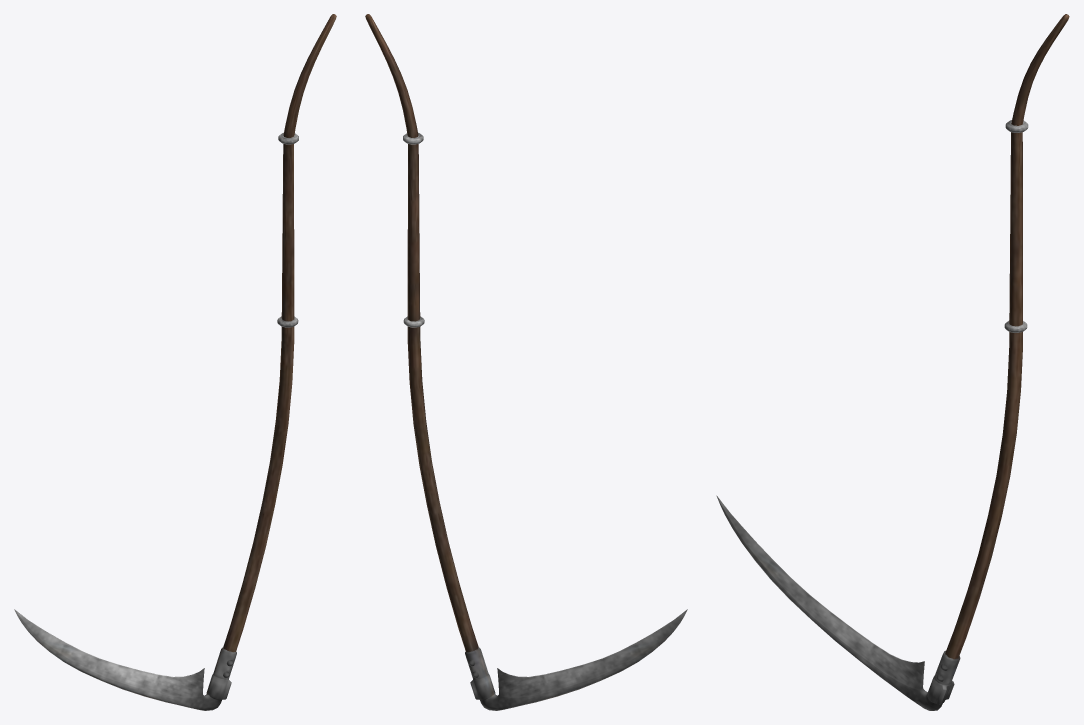
The model's file is weapon-wp_a_1050.glb.
3 renders of one model, left to right at view 1: azimuth 30°, elevation 25°; view 2: azimuth 150°, elevation 25°; view 3: azimuth 330°, elevation 25°, orthographic. The views are drawn at different scales.
Visible parts, largest first — view 1: wp_a_1050_mesh; view 2: wp_a_1050_mesh; view 3: wp_a_1050_mesh.
Boxes of the visible parts, box(x1,y1,x2,y2) form: wp_a_1050_mesh: box(14, 14, 336, 710); wp_a_1050_mesh: box(365, 14, 687, 710); wp_a_1050_mesh: box(716, 14, 1069, 710).
Bounding box in the file's own units: 1.21 × 2.4 × 0.0682.
Materials: 1 (1 with a texture image).
